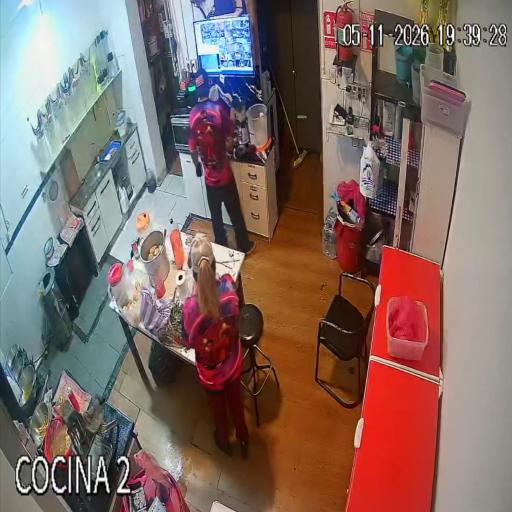Envase Llajua: (52, 395, 64, 418)
Jarra1: (133, 197, 150, 230)
Jarra2: (180, 210, 197, 238)
Jarra3: (198, 204, 220, 255)
Persona2: (0, 265, 57, 382)
Persona3: (177, 260, 259, 463)
Taper2: (130, 265, 164, 322)
Taper3: (143, 272, 181, 346)
Taper4: (166, 278, 200, 361)
